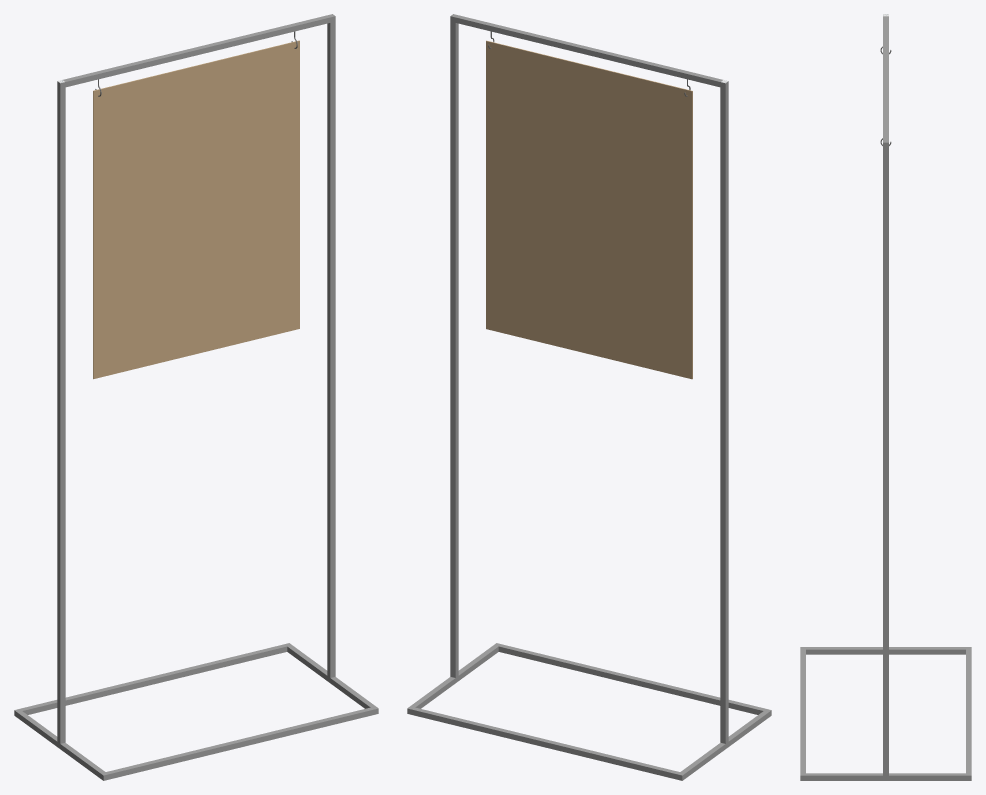
File: PhotoStandFrmae1.dae
The picture shows the model from 3 angles, left to right: view 1: azimuth 30°, elevation 25°; view 2: azimuth 150°, elevation 25°; view 3: azimuth 270°, elevation 25°; orthographic projection. The views are drawn at different scales.
Parts seen in each view (by area): view 1: group_3, group_1 (×2), group_6, group_2, group_0; view 2: group_3, group_1 (×2), group_6, group_2, group_0; view 3: group_1 (×2), group_2, group_0.
Boxes of the visible parts, x1,y1,x2,y2 form: group_3: (93,40,299,379); group_1 (×2): (14,643,378,780); group_6: (57,81,65,743); group_2: (327,14,335,677); group_0: (63,15,330,87); group_3: (486,40,692,379); group_1 (×2): (407,643,771,780); group_6: (720,81,728,743); group_2: (450,14,458,677); group_0: (455,15,722,87); group_1 (×2): (800,647,971,780); group_2: (883,140,888,775); group_0: (883,16,888,140).
Size of the model in its own units: 31.5 by 17.72 by 72.83.
